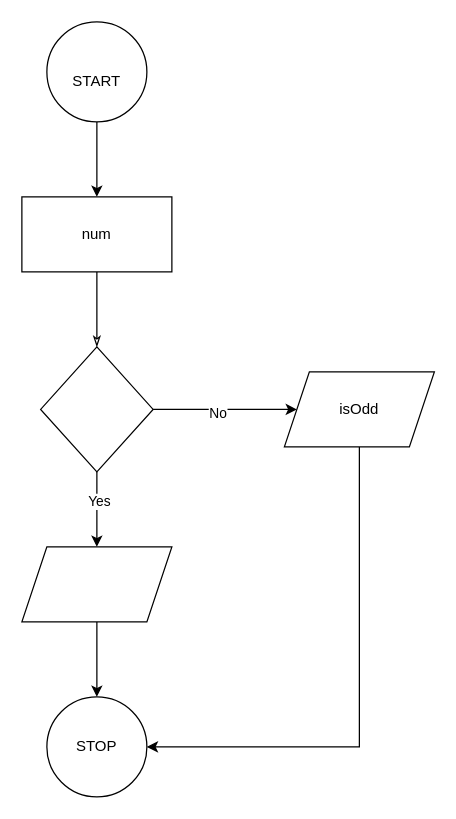
Some shapes in this 456 by 819 pixel diagram are drawn without their labels. The shapes that lost their labels are listed below. From the top down, each one's box as (x1, y1, x2, y2) in pixels, then its label:
(39, 346, 153, 472): num % 2 == 0
(21, 546, 172, 622): isEven
